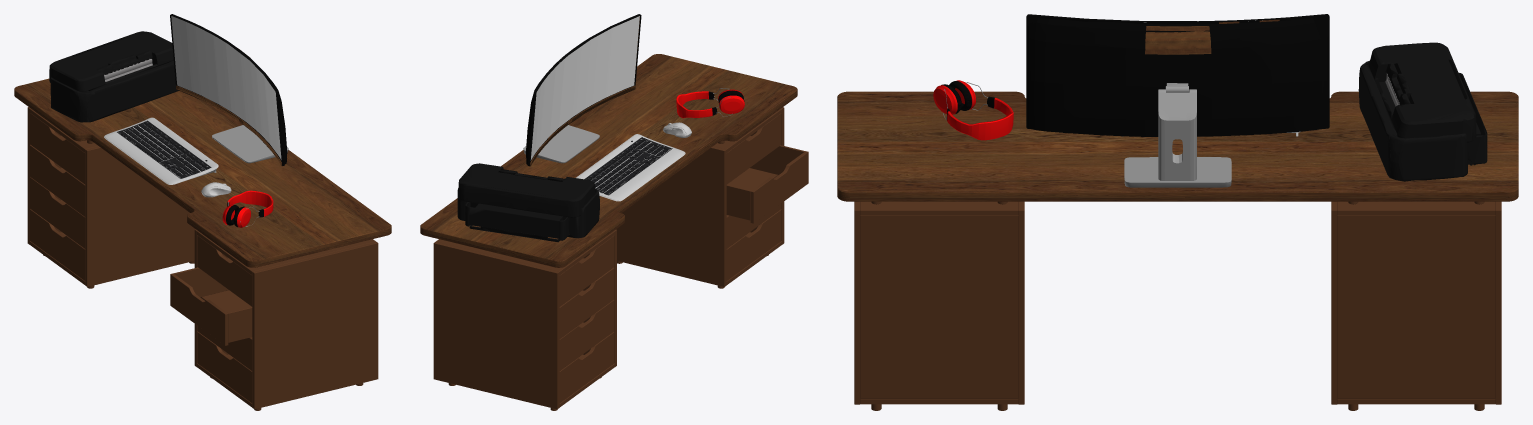
File: table computer headset mouse keyboard.fbx
3 views of the same model, side by side, from view 1: azimuth 30°, elevation 25°; view 2: azimuth 150°, elevation 25°; view 3: azimuth 270°, elevation 25° (orthographic). The views are drawn at different scales.
Parts seen in each view (by area): view 1: uploads_files_3792779_obj_file_Rectangle008, polySurface203, Default, polySurface11, polySurface192, uploads_files_3792779_obj_file_CS_02_009; view 2: uploads_files_3792779_obj_file_Rectangle008, polySurface203, Default, polySurface11, polySurface192; view 3: uploads_files_3792779_obj_file_Rectangle008, polySurface203, Default, polySurface192.
Part boxes in pixels (x1,y1,x2,y2): uploads_files_3792779_obj_file_Rectangle008: [14, 78, 391, 410]; polySurface203: [170, 14, 288, 165]; Default: [49, 31, 178, 122]; polySurface11: [104, 117, 218, 184]; polySurface192: [222, 190, 273, 227]; uploads_files_3792779_obj_file_CS_02_009: [201, 182, 231, 197]; uploads_files_3792779_obj_file_Rectangle008: [420, 54, 808, 410]; polySurface203: [523, 14, 641, 166]; Default: [457, 163, 599, 242]; polySurface11: [576, 134, 685, 201]; polySurface192: [676, 88, 744, 118]; uploads_files_3792779_obj_file_Rectangle008: [837, 91, 1518, 410]; polySurface203: [1026, 14, 1329, 187]; Default: [1358, 42, 1487, 181]; polySurface192: [933, 80, 1013, 140].
Size of the model in its own units: 7.8 by 12.15 by 20.
